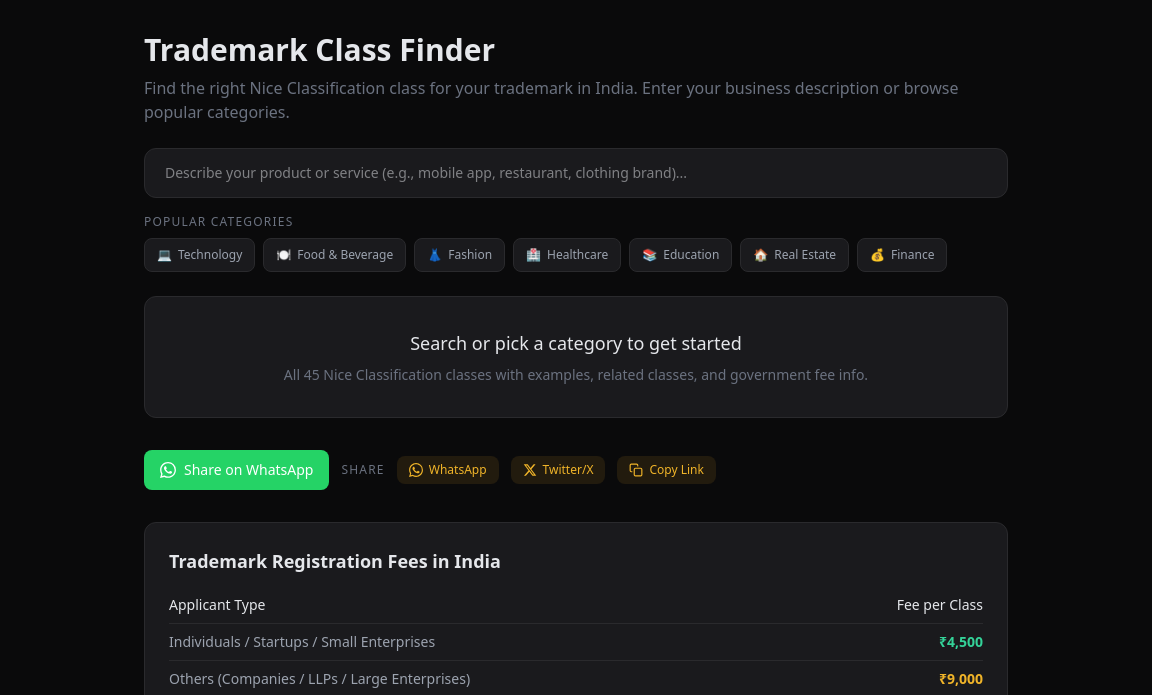
Test case: TrademarkClassFinder › shows matching classes when user types a search query
This screenshot has width=1152, height=695.
Type "software" into the field with placeholder "Describe your product or service" at (576, 173), box [144,148,1008,198]
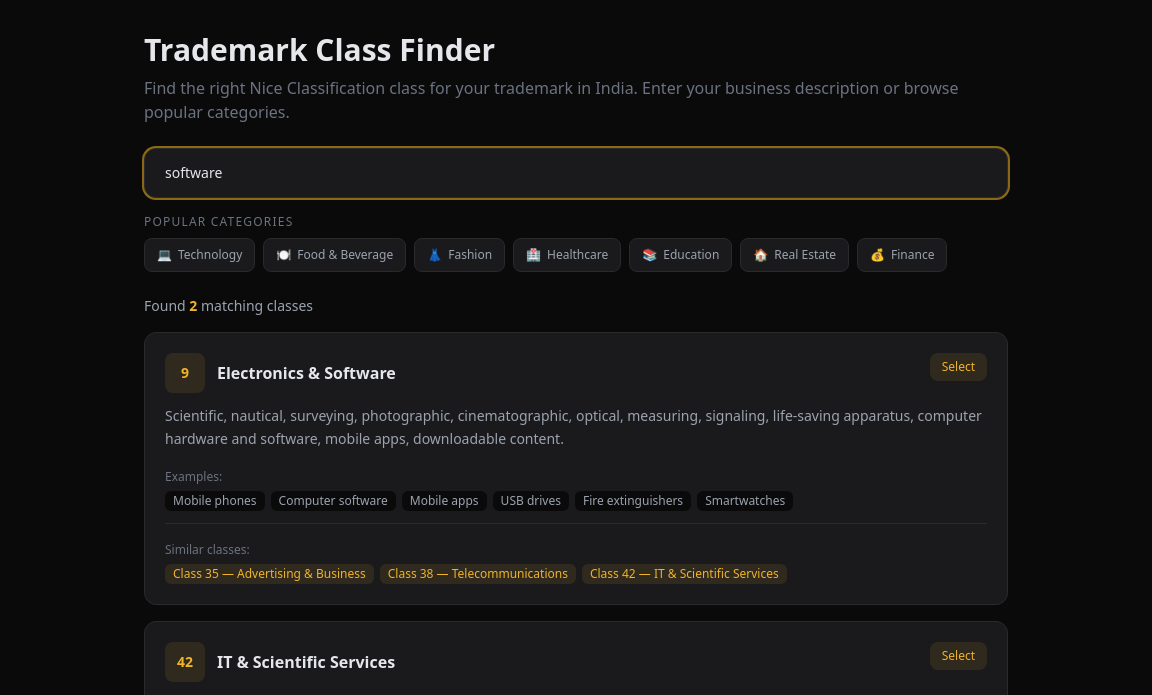
Result: the heading "Electronics & Software" is shown at [217,361,396,385]
Result: the text "Class 42 — IT & Scientific Services" is shown at [582,564,787,584]
